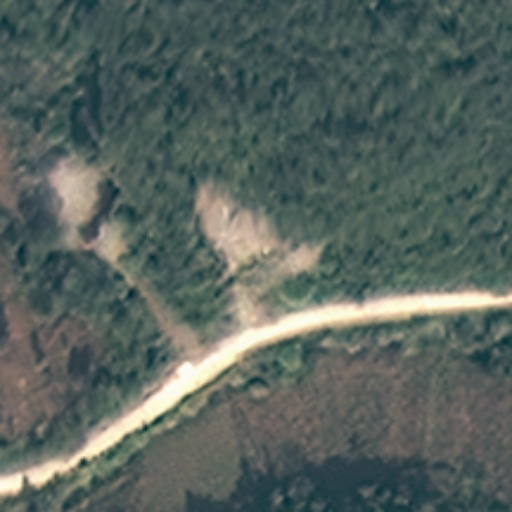landslide: (198, 179, 321, 324), (46, 152, 113, 248)
